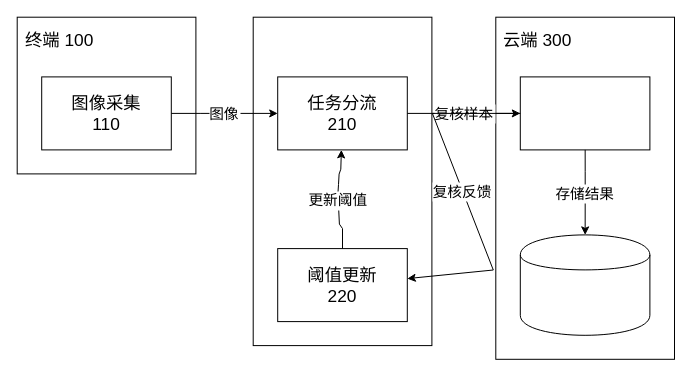
The diagram is 693 pixels wide and 378 high, and some of its shapes have lost their labels. The shapes that lost their labels are listed below. From the top down, each one's box as (x1, y1, x2, y2) in pixels, then its label:
(519, 76, 650, 150): 样本复核 310
(252, 16, 432, 346): 边缘节点 200
(519, 234, 650, 335): 复核记录 320
